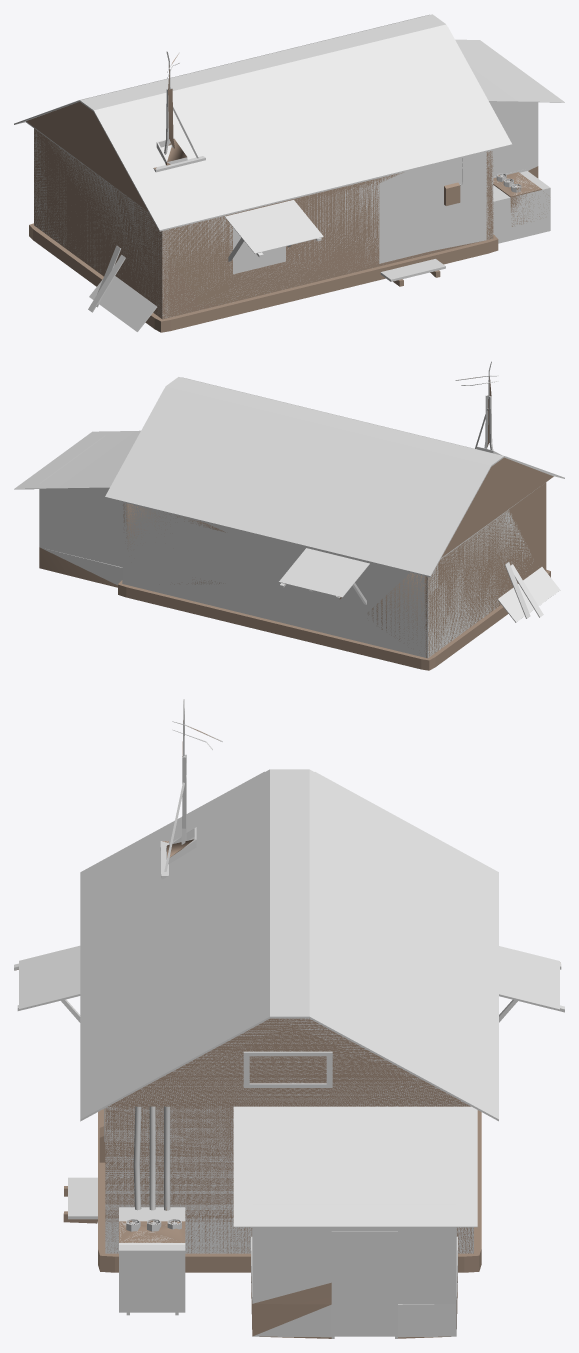
File: shack3.dae
The picture shows the model from 3 angles, top to bottom: view 1: azimuth 30°, elevation 25°; view 2: azimuth 150°, elevation 25°; view 3: azimuth 270°, elevation 25°; orthographic projection. The views are drawn at different scales.
Parts seen in each view (by area): view 1: colmesh-1, Plane_a50, Plane_a100; view 2: colmesh-1, Plane_a50, Plane_a100; view 3: colmesh-1, Plane_a100, Plane_a50.
Boxes of the visible parts, x1,y1,x2,y2 form: colmesh-1: [33, 14, 550, 316]; Plane_a50: [26, 54, 549, 332]; Plane_a100: [14, 14, 564, 331]; colmesh-1: [39, 377, 545, 658]; Plane_a50: [39, 377, 553, 670]; Plane_a100: [14, 361, 564, 640]; colmesh-1: [80, 771, 498, 1336]; Plane_a100: [14, 699, 564, 1338]; Plane_a50: [15, 720, 560, 1338].
Bounding box in the file's own units: 8.66 × 5.98 × 4.49.
